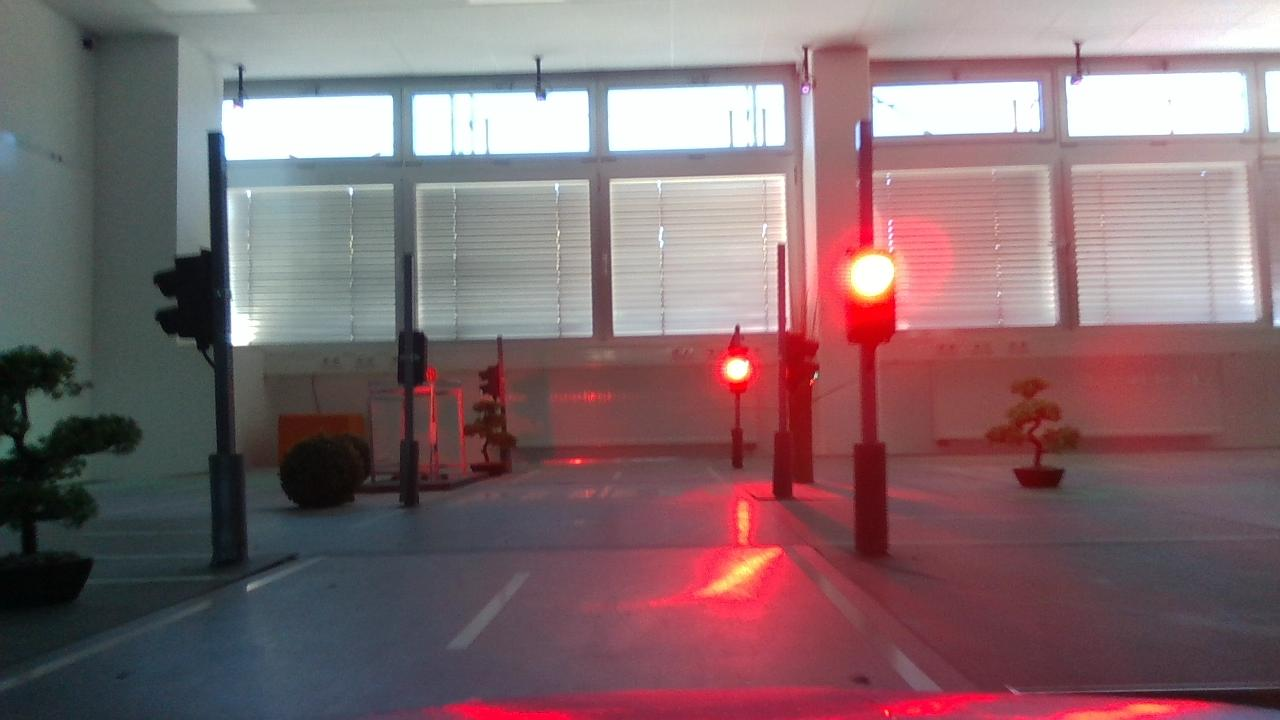traffic_light_red: (831, 237, 912, 363)
